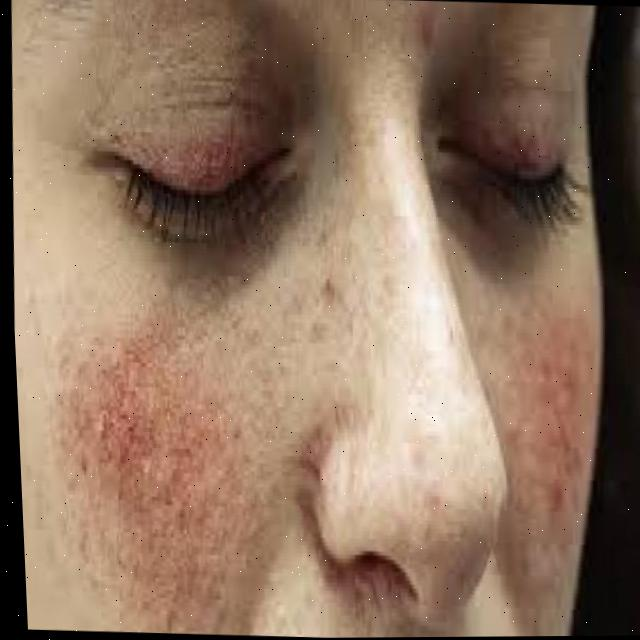Rosacea: (84, 276, 264, 584), (518, 308, 617, 510)
